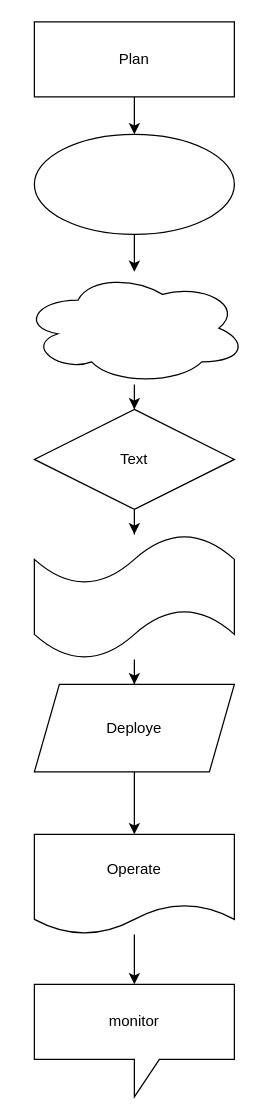
The diagram is 269 pixels wide and 1119 high, and some of its shapes have lost their labels. The shapes that lost their labels are listed below. From the top down, each one's centre as x and y in pixels, then its label:
pixel 133 183: Develop
pixel 134 327: Build
pixel 133 596: Release
